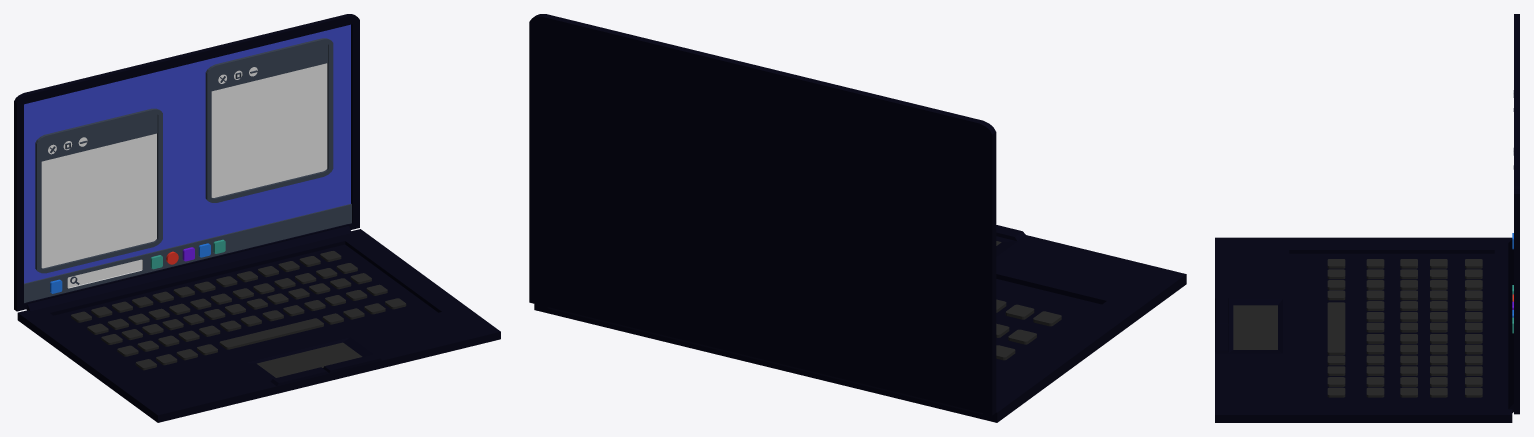
The model's file is laptop.glb.
3 renders of one model, left to right at view 1: azimuth 30°, elevation 25°; view 2: azimuth 150°, elevation 25°; view 3: azimuth 270°, elevation 25°, orthographic. The views are drawn at different scales.
Parts seen in each view (by area): view 1: Cube.001, Cube, Cube.003, Cube.008, Cube.002, Cube.020; view 2: Cube, Cube.001, Cube.002; view 3: Cube.001, Cube, Cube.020, Cube.002.
Part boxes in pixels (x1=…): Cube.001: x1=17, y1=229, x2=500, y2=422; Cube: x1=14, y1=14, x2=359, y2=311; Cube.003: x1=205, y1=38, x2=333, y2=202; Cube.008: x1=35, y1=108, x2=162, y2=273; Cube.002: x1=26, y1=224, x2=351, y2=311; Cube.020: x1=219, y1=318, x2=323, y2=349; Cube: x1=529, y1=14, x2=996, y2=415; Cube.001: x1=534, y1=225, x2=1186, y2=422; Cube.002: x1=547, y1=307, x2=982, y2=414; Cube.001: x1=1215, y1=237, x2=1512, y2=422; Cube: x1=1514, y1=14, x2=1519, y2=414; Cube.020: x1=1327, y1=302, x2=1345, y2=355; Cube.002: x1=1508, y1=239, x2=1513, y2=412.
Size of the model in its own units: 6.1 by 3.78 by 4.44.
